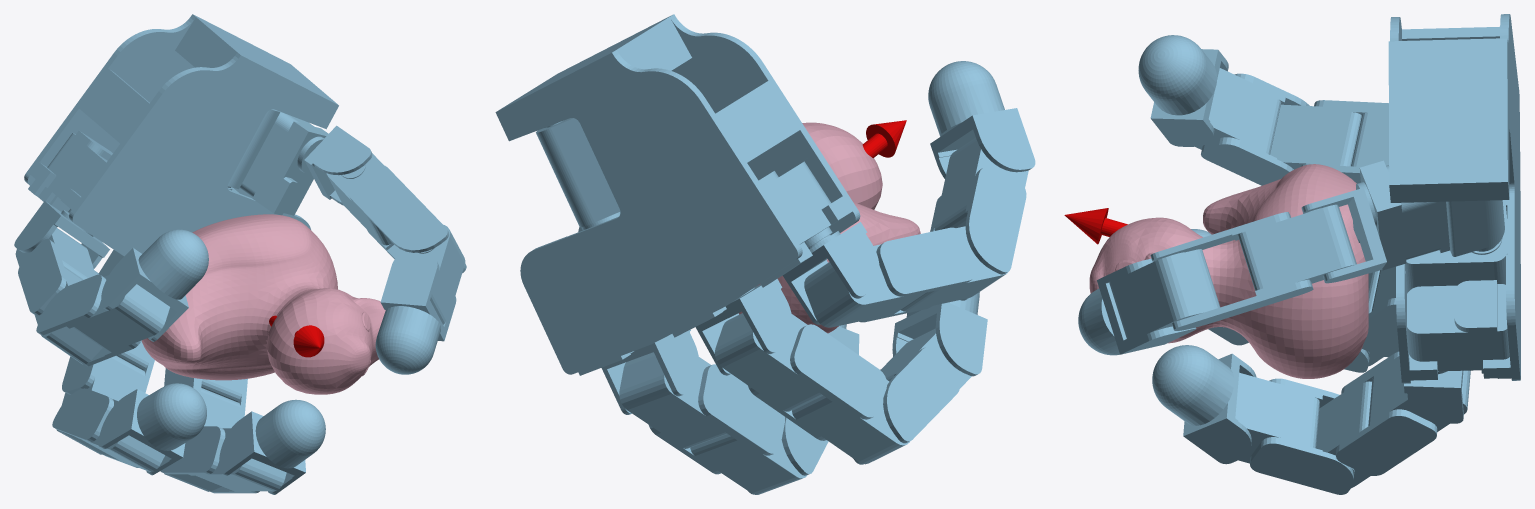
3 views of the same model, side by side, from view 1: azimuth 30°, elevation 25°; view 2: azimuth 150°, elevation 25°; view 3: azimuth 270°, elevation 25° (orthographic). The views are drawn at different scales.
Parts seen in each view (by area): view 1: world, rubber_duck.stl; view 2: world, rubber_duck.stl; view 3: world, rubber_duck.stl.
Part boxes in pixels (x1,y1,x2,y2): world: (14, 14, 466, 494); rubber_duck.stl: (141, 214, 385, 394); world: (495, 14, 1035, 494); rubber_duck.stl: (738, 122, 920, 333); world: (1064, 14, 1520, 494); rubber_duck.stl: (1089, 164, 1368, 378).
Bounding box in the file's own units: 0.1767 × 0.1841 × 0.1569.
